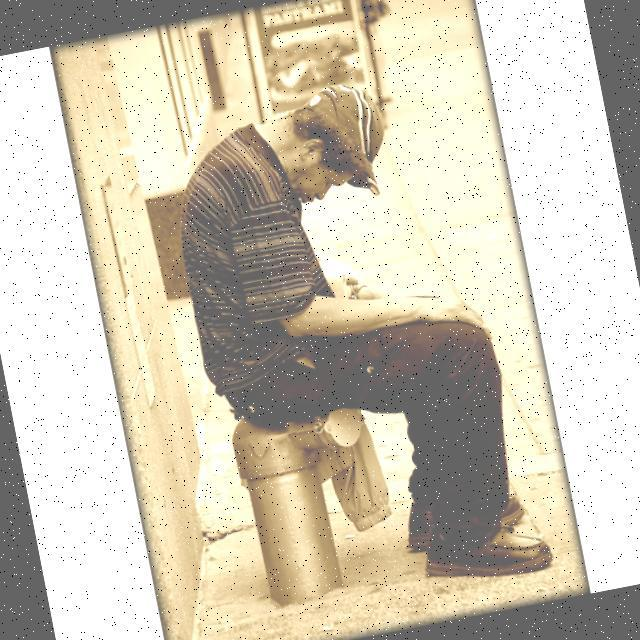fire_hydrant: (229, 400, 392, 614)
